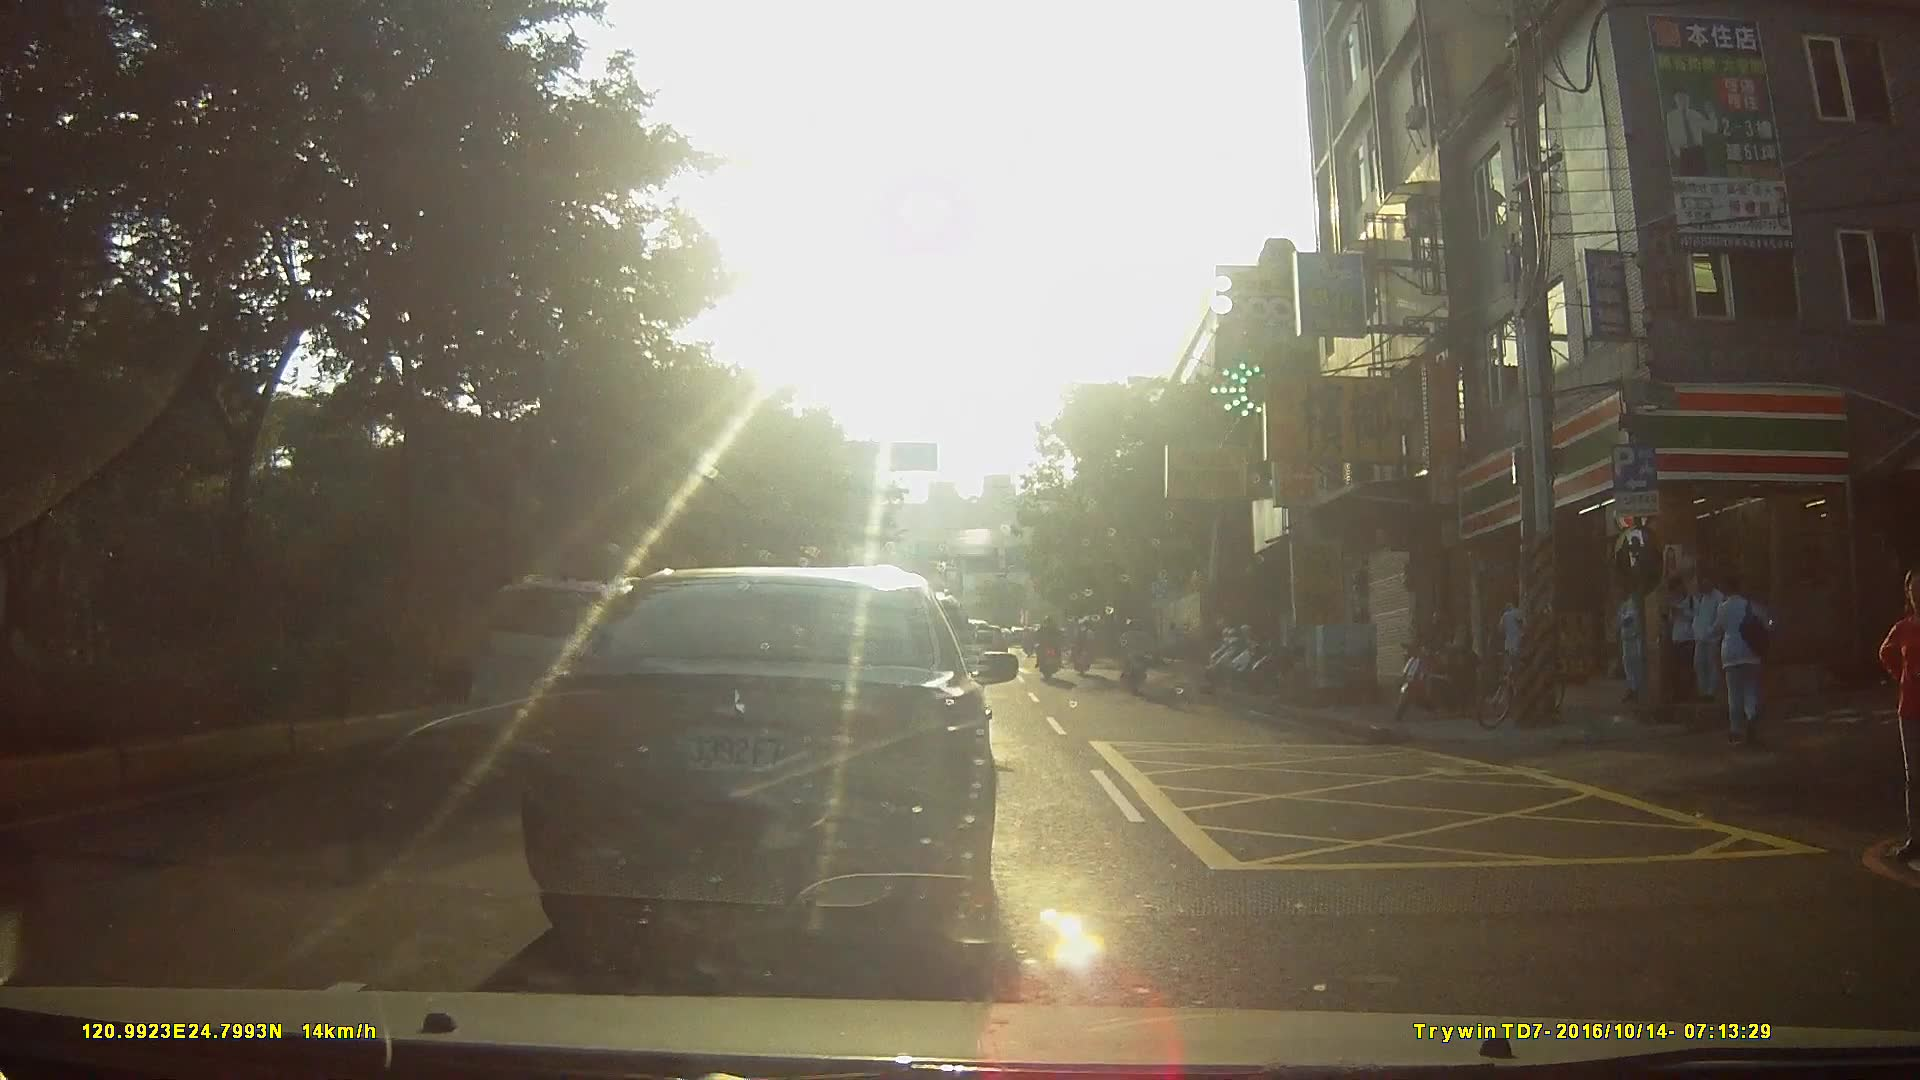pedestrian: (1877, 567, 1920, 854), (1706, 579, 1778, 754), (1680, 569, 1726, 703), (1661, 568, 1698, 709), (1500, 594, 1541, 707), (1618, 583, 1655, 708)
rider: (1121, 618, 1151, 696), (1036, 614, 1065, 681), (1069, 618, 1100, 679), (1019, 626, 1039, 658)
vehicle: (511, 560, 1027, 976), (0, 636, 141, 980)
